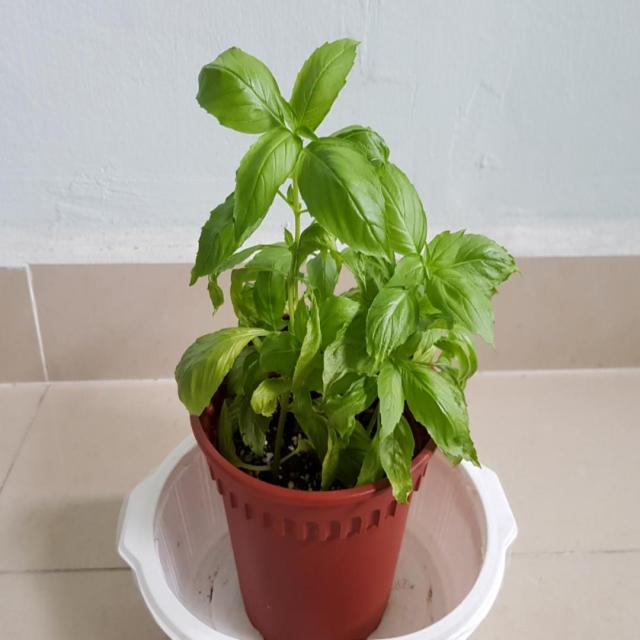Sweet Basil: (164, 47, 533, 484)
